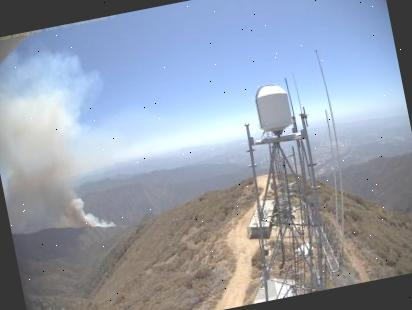smoke: (0, 37, 124, 247)
